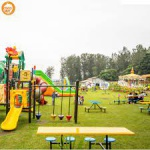PlayGround: (3, 79, 148, 148)
